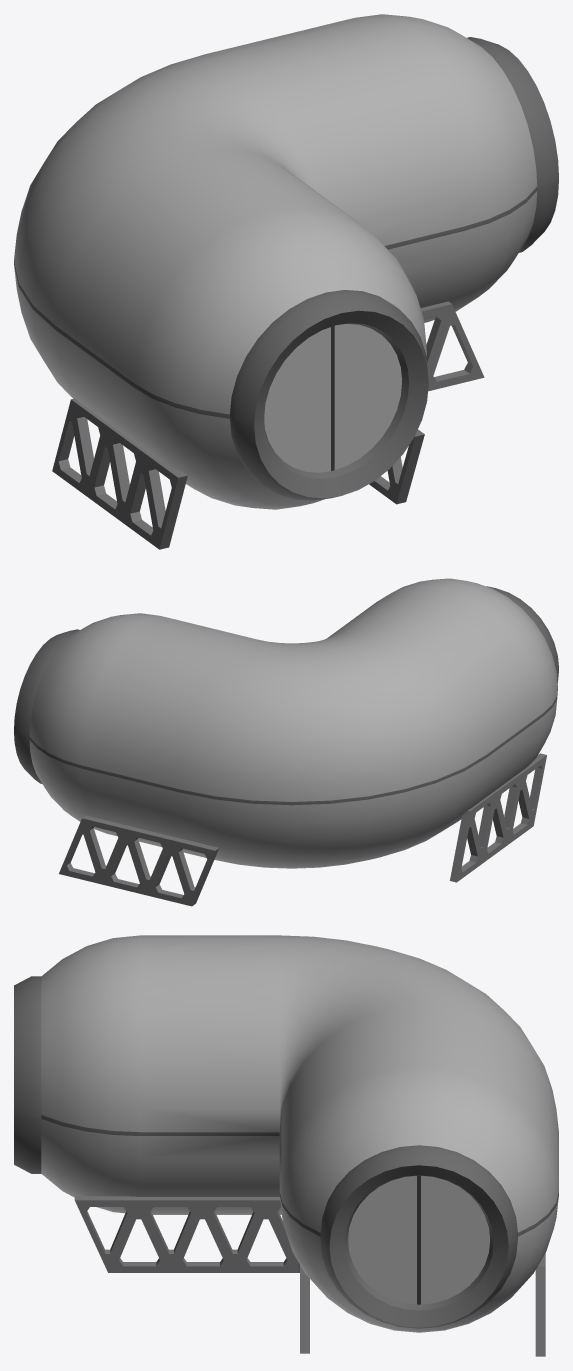
Rendered from airfield.glb.
3 views of the same model, one above another, from view 1: azimuth 30°, elevation 25°; view 2: azimuth 150°, elevation 25°; view 3: azimuth 270°, elevation 25° (orthographic). The views are drawn at different scales.
Parts seen in each view (by area): view 1: Building_L; view 2: Building_L; view 3: Building_L.
Boxes of the visible parts, box(x1,y1,x2,y2) form: Building_L: box(14, 14, 558, 549); Building_L: box(14, 578, 558, 906); Building_L: box(14, 935, 558, 1356).
Bounding box in the file's own units: 7.8 × 4.31 × 7.79.
1 material, 1 textured.
